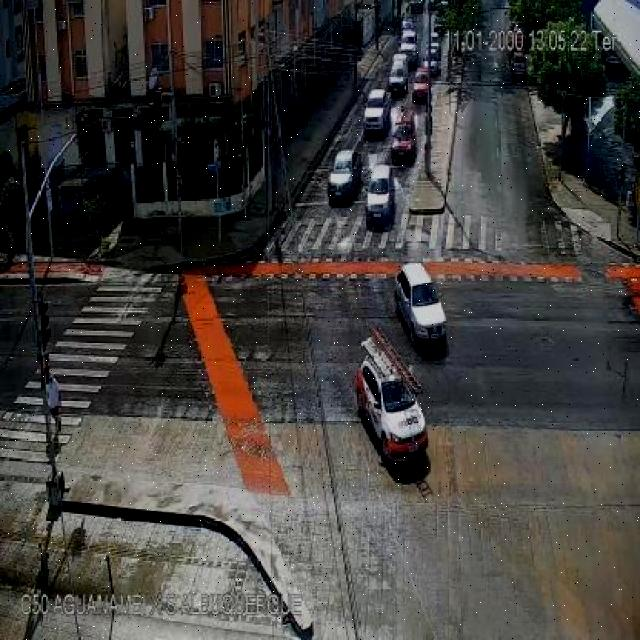Car: (340, 329, 436, 480), (391, 253, 458, 342), (319, 149, 364, 206), (360, 159, 396, 227), (390, 108, 422, 163), (358, 86, 391, 136), (383, 50, 412, 97), (410, 66, 439, 107)
